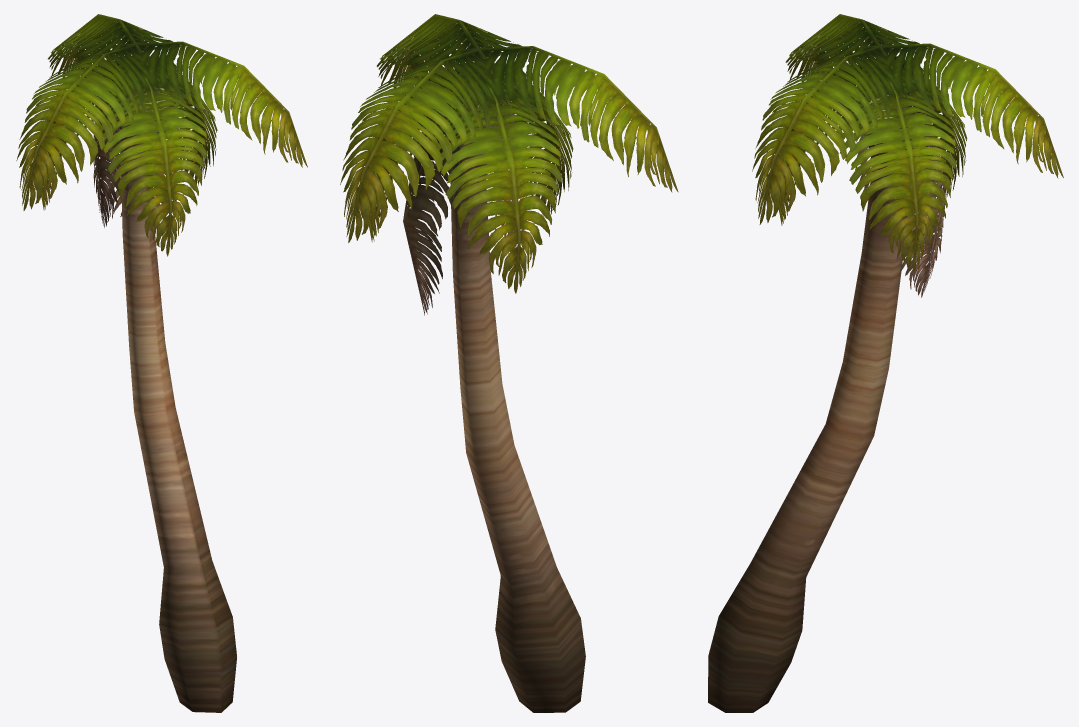
The model's file is badlandspalmtree01.obj.
3 renders of one model, left to right at view 1: azimuth 30°, elevation 25°; view 2: azimuth 150°, elevation 25°; view 3: azimuth 270°, elevation 25°, orthographic. The views are drawn at different scales.
Parts seen in each view (by area): view 1: Geoset0, Geoset1; view 2: Geoset0, Geoset1; view 3: Geoset0, Geoset1.
Boxes of the visible parts, left/top/right/bottom form: Geoset0: left=16, top=14, right=307, bottom=256; Geoset1: left=111, top=85, right=236, bottom=712; Geoset0: left=340, top=14, right=678, bottom=315; Geoset1: left=445, top=107, right=585, bottom=712; Geoset0: left=752, top=14, right=1063, bottom=297; Geoset1: left=708, top=98, right=913, bottom=712.
Bounding box in the file's own units: 6.53 × 14.86 × 7.28.
